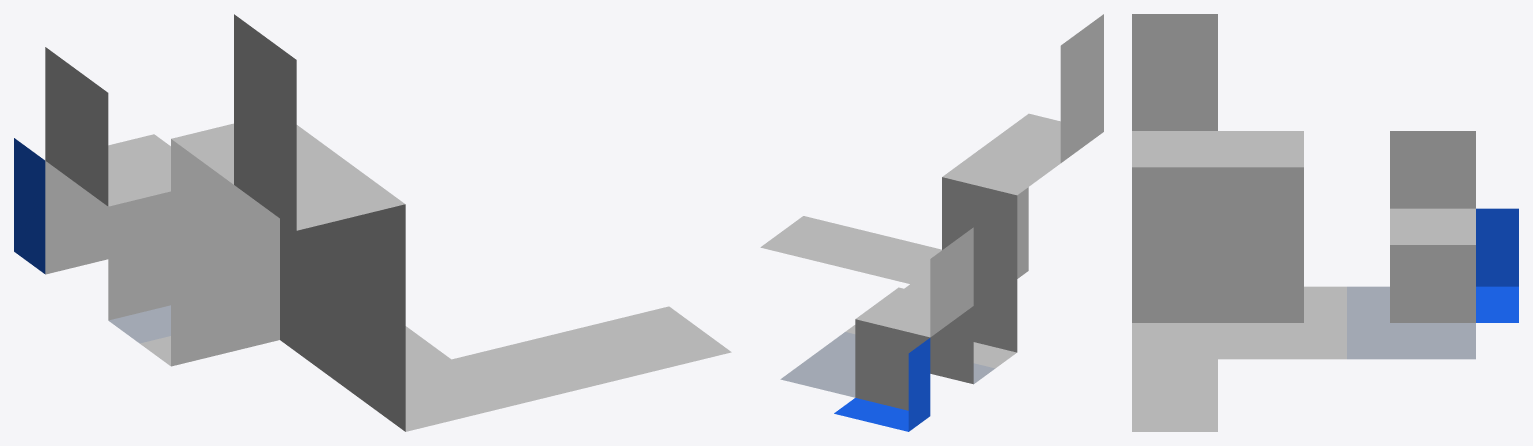
The model's file is cell_24.obj.
3 views of the same model, side by side, from view 1: azimuth 30°, elevation 25°; view 2: azimuth 150°, elevation 25°; view 3: azimuth 270°, elevation 25° (orthographic). The views are drawn at different scales.
Size of the model in its own units: 0.5 by 0.4375 by 0.5625.
